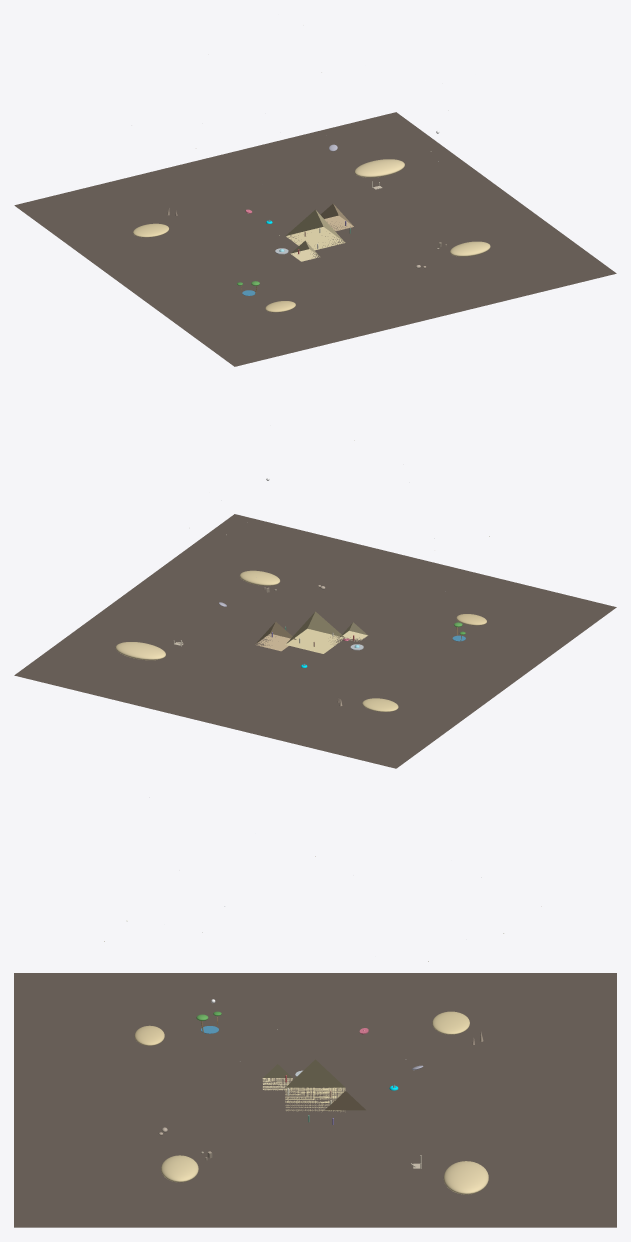
3 views of the same model, one above another, from view 1: azimuth 30°, elevation 25°; view 2: azimuth 150°, elevation 25°; view 3: azimuth 270°, elevation 25° (orthographic). The views are drawn at different scales.
Visible parts, largest first — view 1: ground_plane, pyramid, dune_3, dune_1, pyramid_2; view 2: ground_plane, pyramid, dune_3, pyramid_2; view 3: ground_plane, pyramid, dune_3, dune_1, dune_4.
Part boxes in pixels (x1=…): ground_plane: x1=14, y1=112, x2=616, y2=366; pyramid: x1=286, y1=209, x2=345, y2=251; dune_3: x1=354, y1=159, x2=404, y2=177; dune_1: x1=450, y1=241, x2=490, y2=256; pyramid_2: x1=320, y1=203, x2=353, y2=230; ground_plane: x1=14, y1=514, x2=616, y2=768; pyramid: x1=285, y1=611, x2=344, y2=653; dune_3: x1=115, y1=642, x2=165, y2=660; pyramid_2: x1=255, y1=621, x2=296, y2=651; ground_plane: x1=14, y1=973, x2=616, y2=1227; pyramid: x1=285, y1=1059, x2=345, y2=1111; dune_3: x1=443, y1=1161, x2=488, y2=1194; dune_1: x1=161, y1=1155, x2=198, y2=1182; dune_4: x1=432, y1=1011, x2=469, y2=1034.
Bounding box in the file's own units: 80 × 36.78 × 80.
